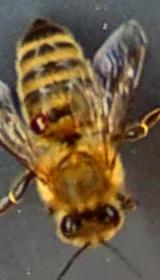varroa_mite: (20, 103, 60, 135)
